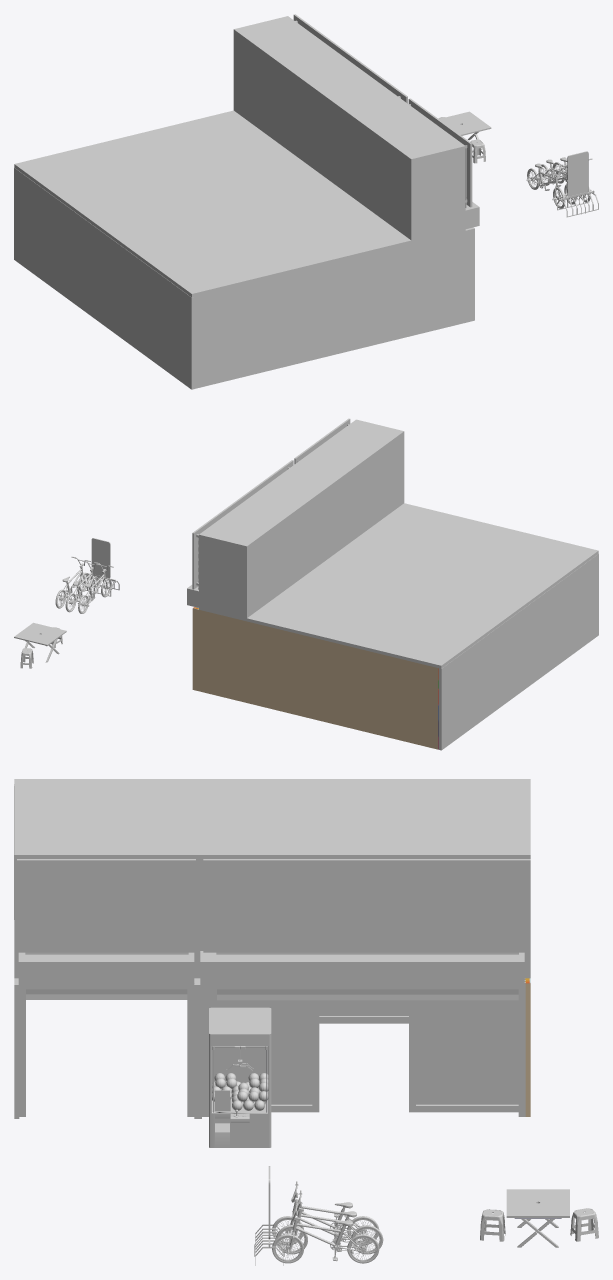
Rendered from PruebaNUEVOKIOSCO3.fbx.
3 views of the same model, one above another, from view 1: azimuth 30°, elevation 25°; view 2: azimuth 150°, elevation 25°; view 3: azimuth 270°, elevation 25° (orthographic). The views are drawn at different scales.
Parts seen in each view (by area): view 1: Cube.022, Cube.005, Cube.004, Cube.002, Cube.008, Cube.224, Cube.036, Cube.030, Cube.093; view 2: Cube.022, Cube.005, Cube, Cube.002, Cube.008, Cube.030, Cube.224, Cube.093; view 3: Cube.030, Cube.005, Cube.022, Cube.036, Cube.023, Cube.007, Cube.025, Cube.006, Cube.5723, SM_Body_Top, SM_Body, Cube.024 (+15 smaller).
Part boxes in pixels (bbox=[...]): Cube.022: bbox=[14, 110, 465, 297]; Cube.005: bbox=[233, 16, 465, 240]; Cube.004: bbox=[194, 227, 474, 388]; Cube.002: bbox=[14, 167, 126, 341]; Cube.008: bbox=[127, 250, 194, 389]; Cube.224: bbox=[557, 151, 598, 217]; Cube.036: bbox=[408, 98, 472, 207]; Cube.030: bbox=[293, 14, 407, 103]; Cube.093: bbox=[439, 111, 491, 135]; Cube.022: bbox=[199, 503, 598, 668]; Cube.005: bbox=[199, 419, 404, 618]; Cube: bbox=[192, 607, 438, 749]; Cube.002: bbox=[439, 596, 541, 750]; Cube.008: bbox=[541, 554, 598, 676]; Cube.030: bbox=[192, 460, 293, 589]; Cube.224: bbox=[82, 538, 119, 596]; Cube.093: bbox=[14, 622, 66, 645]; Cube.030: bbox=[203, 859, 530, 952]; Cube.005: bbox=[14, 816, 530, 972]; Cube.022: bbox=[14, 779, 530, 978]; Cube.036: bbox=[17, 859, 195, 952]; Cube.023: bbox=[200, 951, 524, 989]; Cube.007: bbox=[416, 1000, 518, 1104]; Cube.025: bbox=[18, 952, 194, 989]; Cube.006: bbox=[217, 1000, 312, 1104]; Cube.5723: bbox=[216, 952, 518, 1000]; SM_Body_Top: bbox=[209, 1007, 271, 1113]; SM_Body: bbox=[209, 1089, 271, 1147]; Cube.024: bbox=[25, 952, 188, 999].
Bounding box in the file's own units: 1806 × 615 × 1264.
